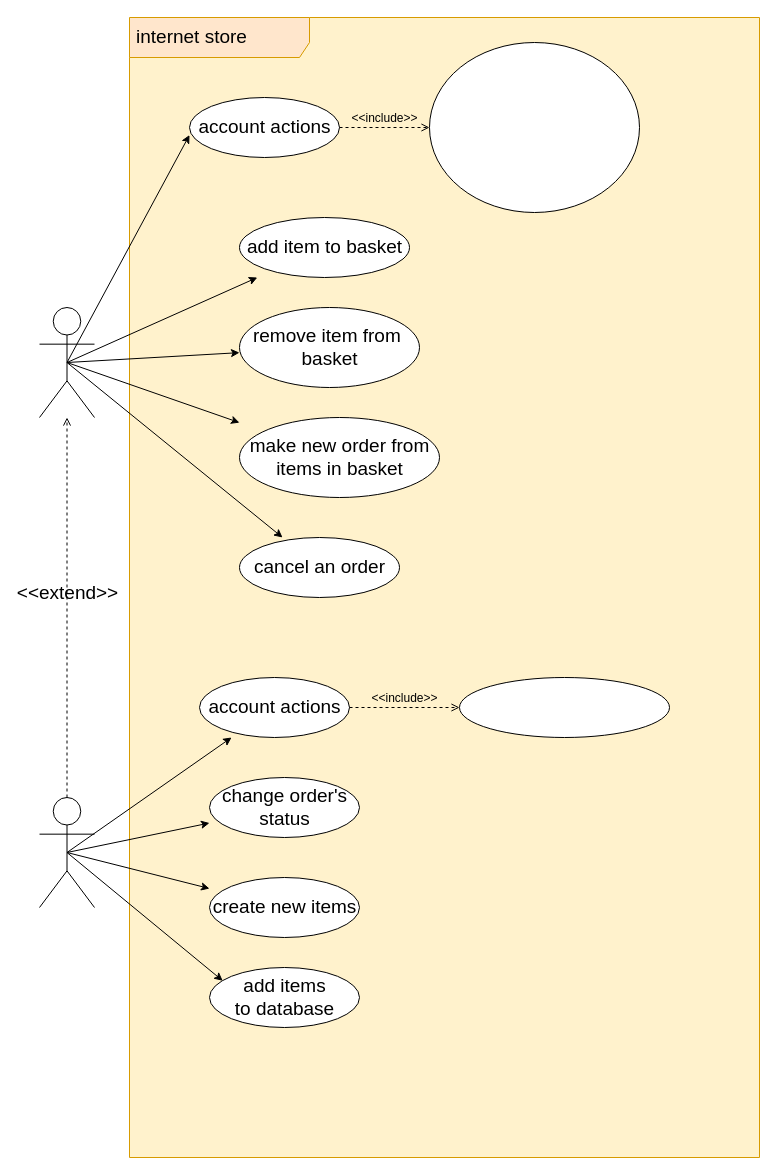
Image size: 778x1175. Some labels were removed from this diagram. Here are the shapes that lost their labels. From the top down, the centre of each, then its label:
At point (534, 127): "login register change username change email change password".
At point (66, 362): "user".
At point (564, 707): "change user roles".
At point (66, 852): "admin".
